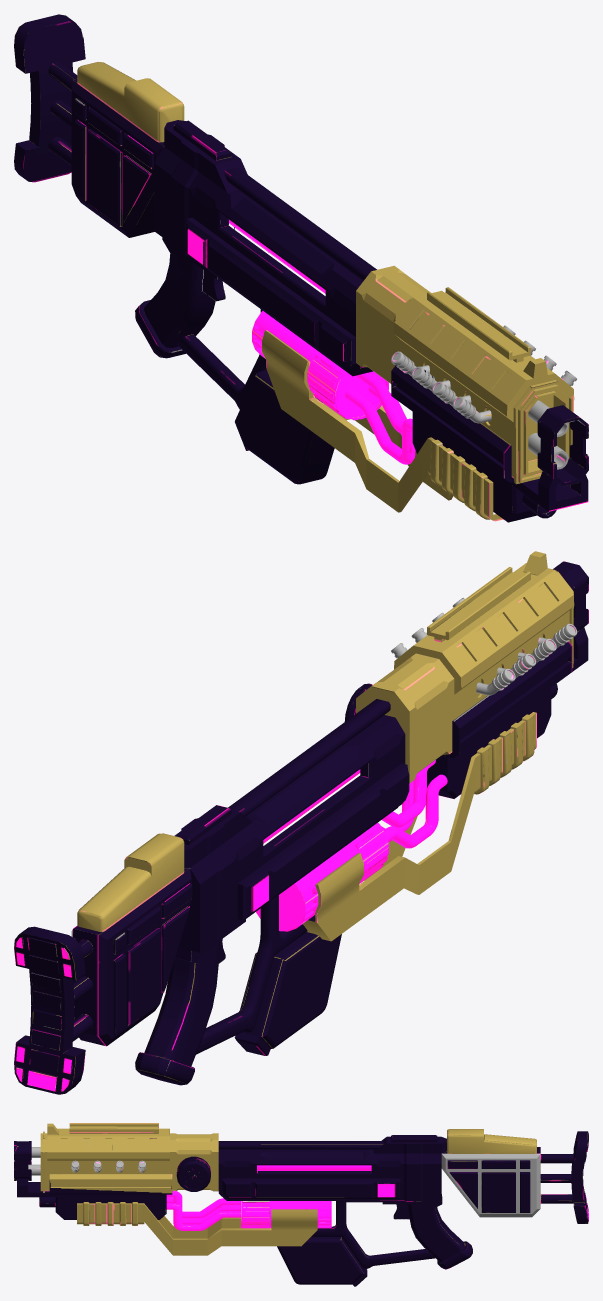
The model's file is G-88 Workhorse.glb.
The picture shows the model from 3 angles, top to bottom: view 1: azimuth 30°, elevation 25°; view 2: azimuth 150°, elevation 25°; view 3: azimuth 270°, elevation 25°; orthographic projection. The views are drawn at different scales.
Parts seen in each view (by area): view 1: Cube.009_low.001; view 2: Cube.009_low.001; view 3: Cube.009_low.001.
Part boxes in pixels (x1=…): Cube.009_low.001: x1=14, y1=14, x2=588, y2=522; Cube.009_low.001: x1=14, y1=551, x2=588, y2=1094; Cube.009_low.001: x1=14, y1=1123, x2=588, y2=1286.
Size of the model in its own units: 0.0557 by 0.1275 by 0.4181.
1 material, 1 textured.
